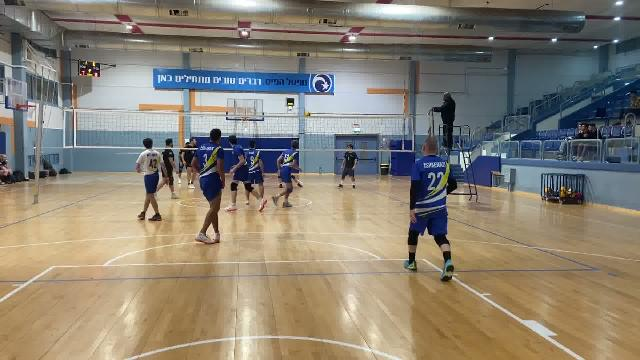ball: (305, 109, 317, 119)
